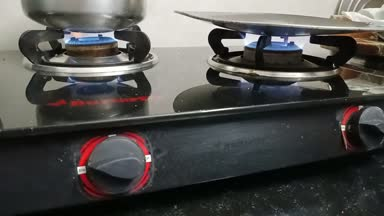flame_gas_on: (36, 25, 158, 198), (212, 25, 340, 75)
